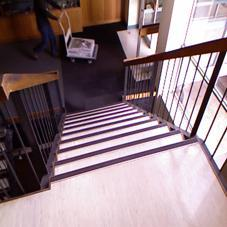Stair Down: (52, 101, 198, 183)
